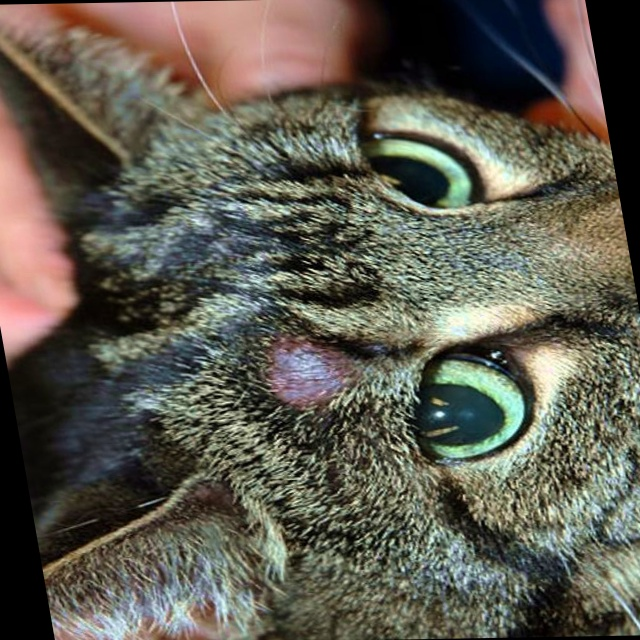lump_and_bump: (259, 338, 359, 408)
